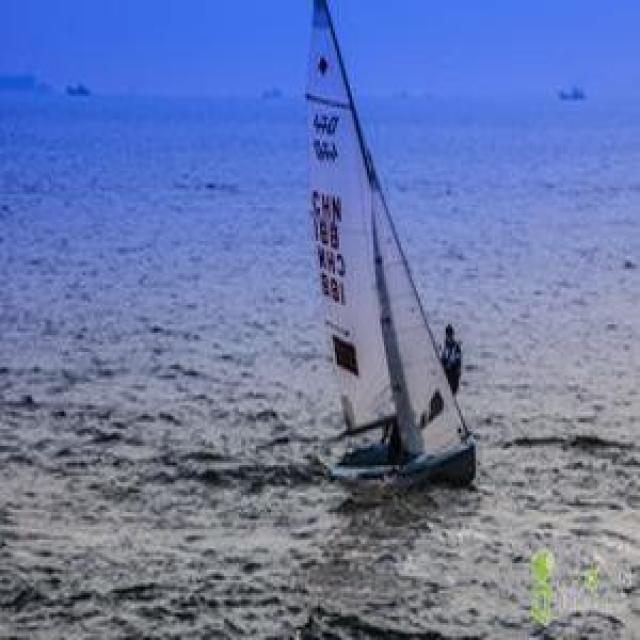sailboat: (281, 0, 492, 491)
